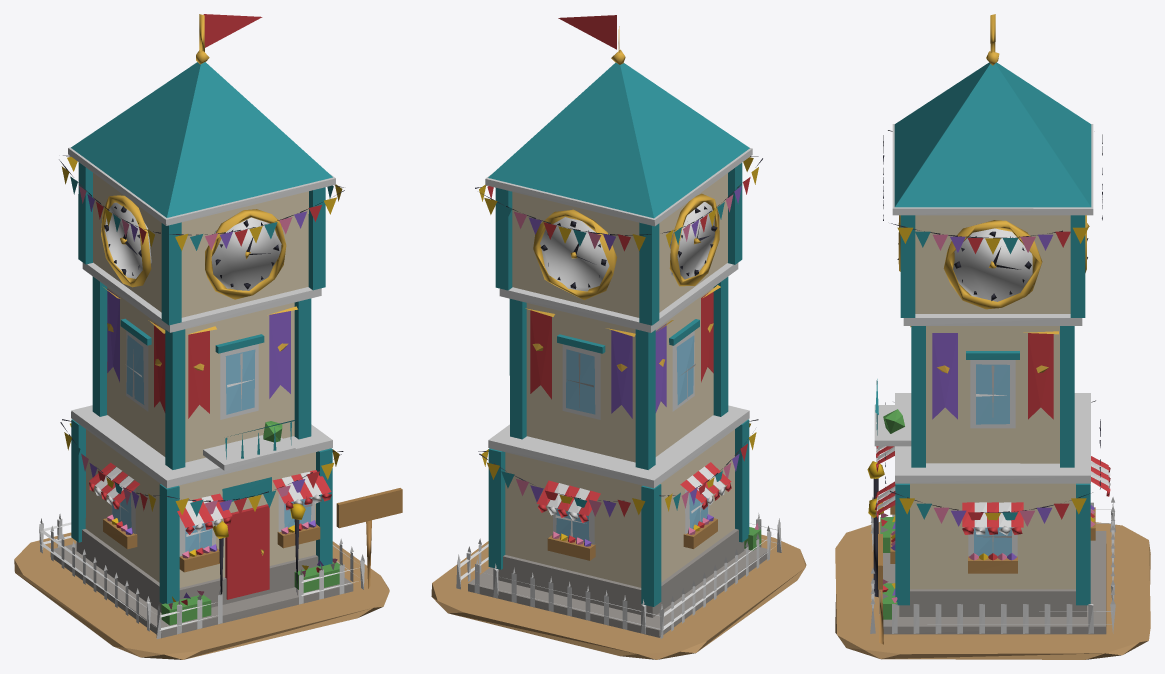
Rendered from clock-tower-lod1-5.6918bc92.glb.
3 views of the same model, side by side, from view 1: azimuth 30°, elevation 25°; view 2: azimuth 150°, elevation 25°; view 3: azimuth 270°, elevation 25° (orthographic). The views are drawn at different scales.
Parts seen in each view (by area): view 1: ClockTower_Stage5__T_vcol; view 2: ClockTower_Stage5__T_vcol; view 3: ClockTower_Stage5__T_vcol.
Part boxes in pixels (bbox=[...]): ClockTower_Stage5__T_vcol: bbox=[14, 14, 402, 659]; ClockTower_Stage5__T_vcol: bbox=[431, 15, 806, 659]; ClockTower_Stage5__T_vcol: bbox=[835, 14, 1150, 659].
Bounding box in the file's own units: 4.94 × 9.62 × 4.75.
